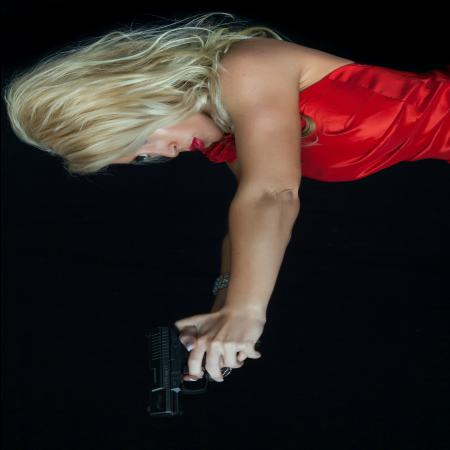Pistol: (140, 320, 262, 418)
